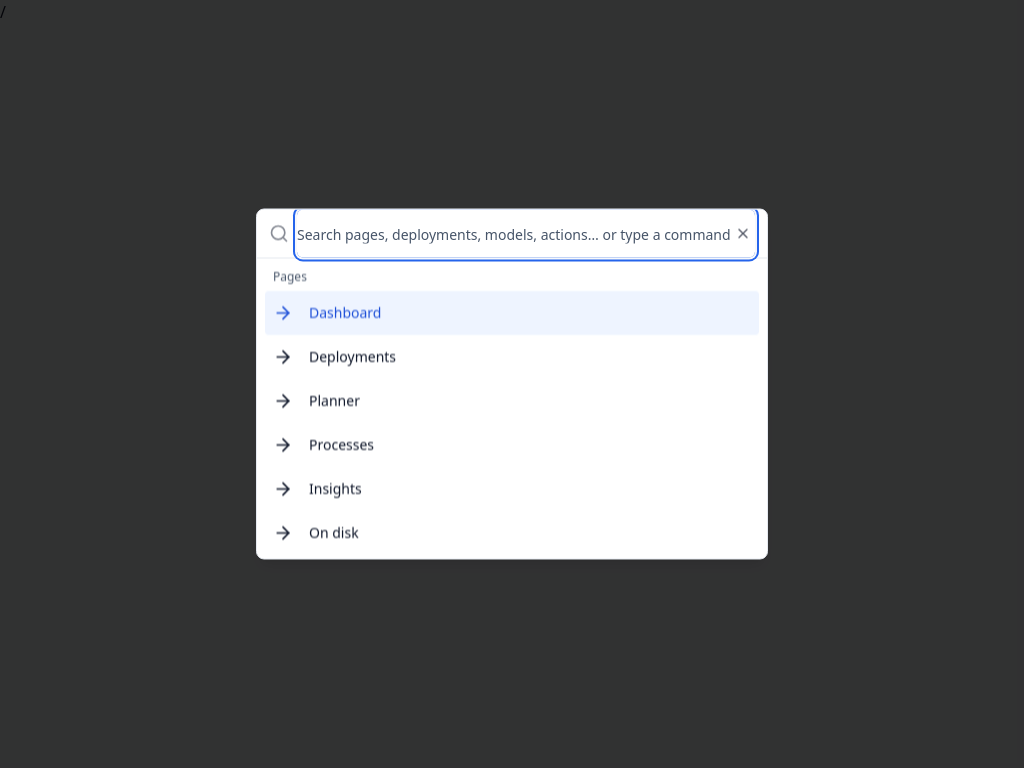
⌘K Ask mode › offers Interpret only when no entry matches, and lists the interpretations with confidence
The image size is (1024, 768).
Step 1. Type "planner" into the dropdown with placeholder "type a command" → (526, 234), box [297,210,755,258]
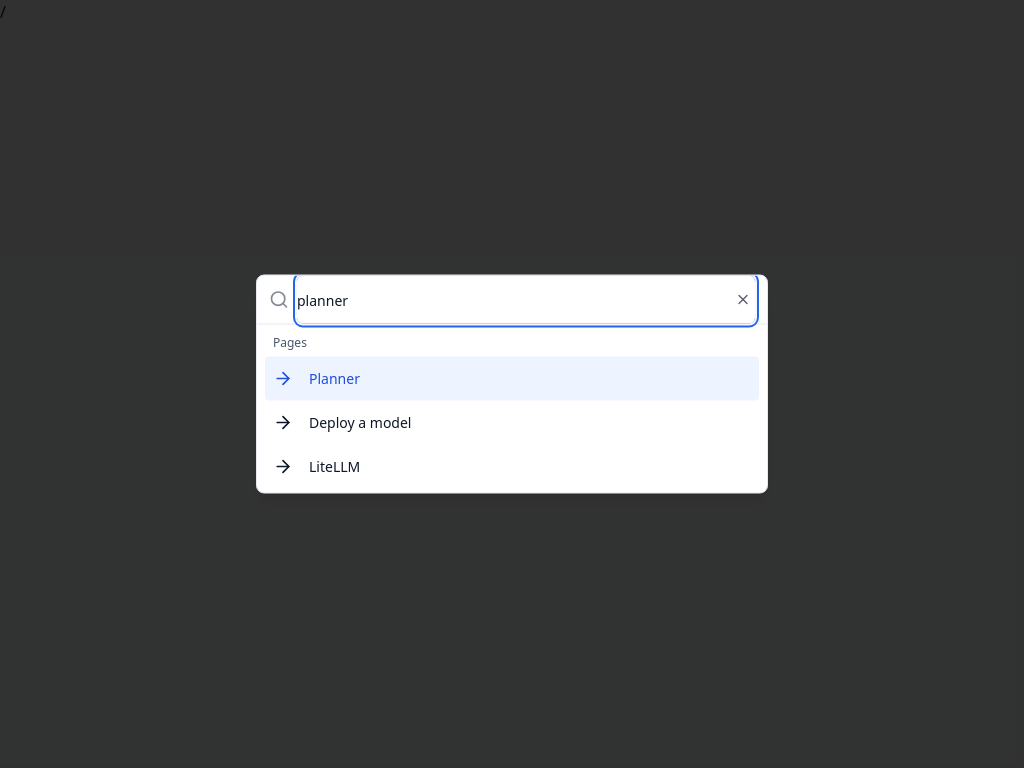
Expected: the text "Interpret:" is not shown
Step 2. Clear the dropdown with placeholder "type a command" → (526, 300), box [297,276,755,324]
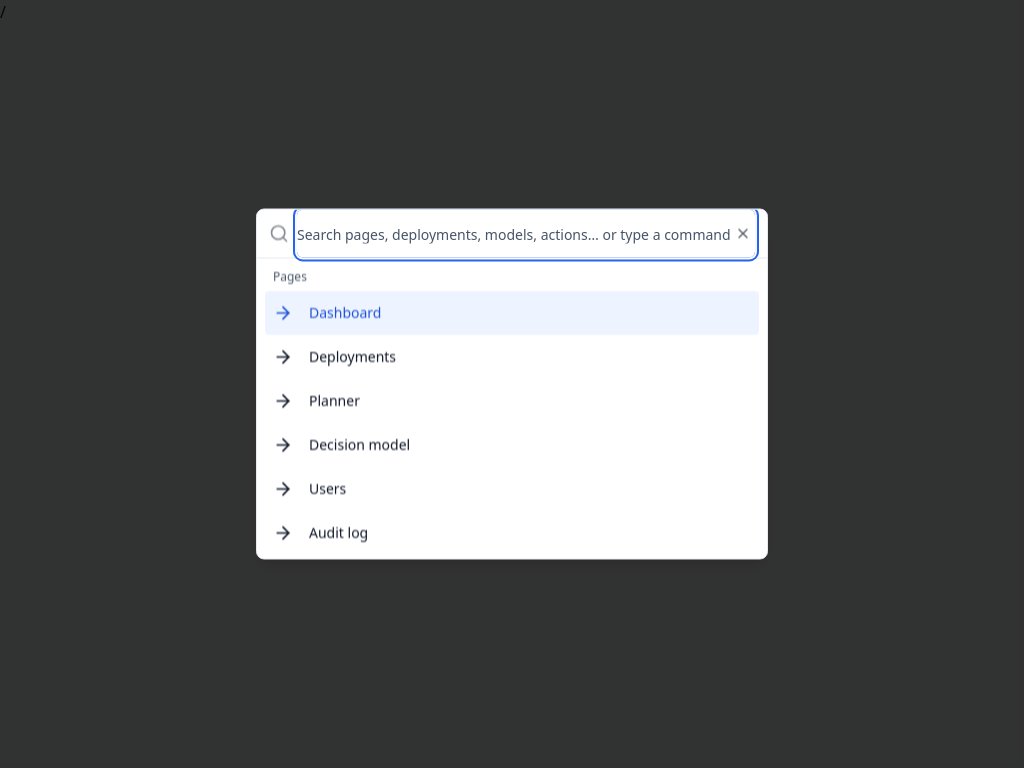
Step 3. Type "turn qwen off for tonight" into the dropdown with placeholder "type a command" → (526, 234), box [297,210,755,258]
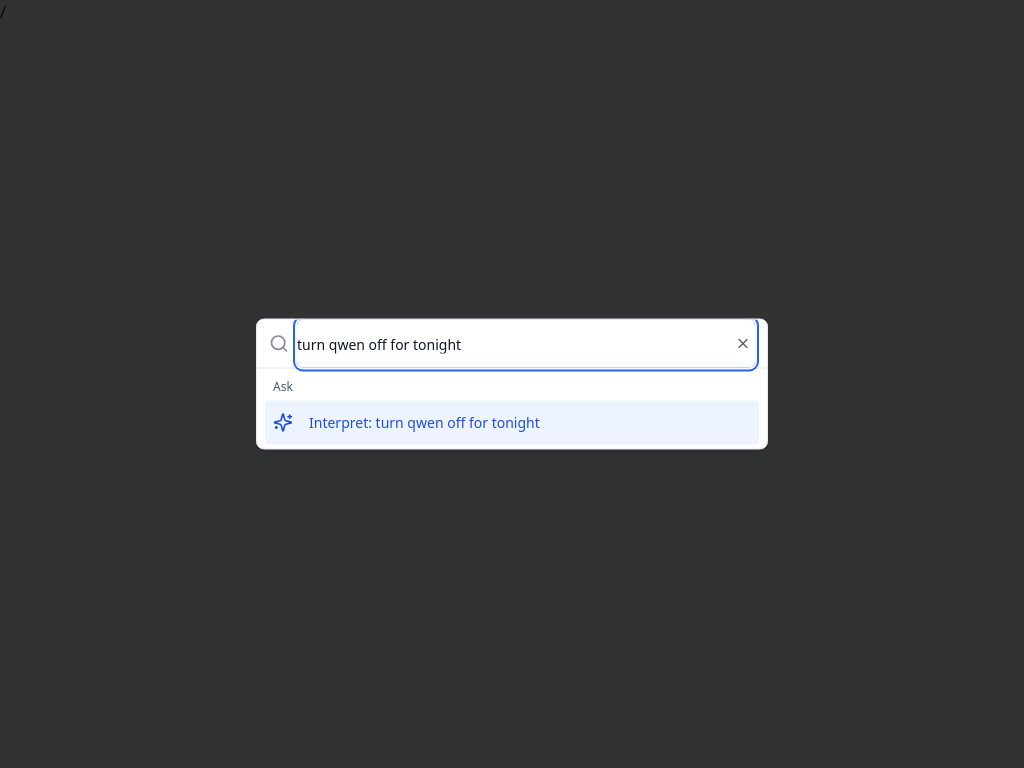
Expected: the option "Interpret: turn qwen off for tonight" is shown, [265,400,759,444]
Step 4. Press Enter
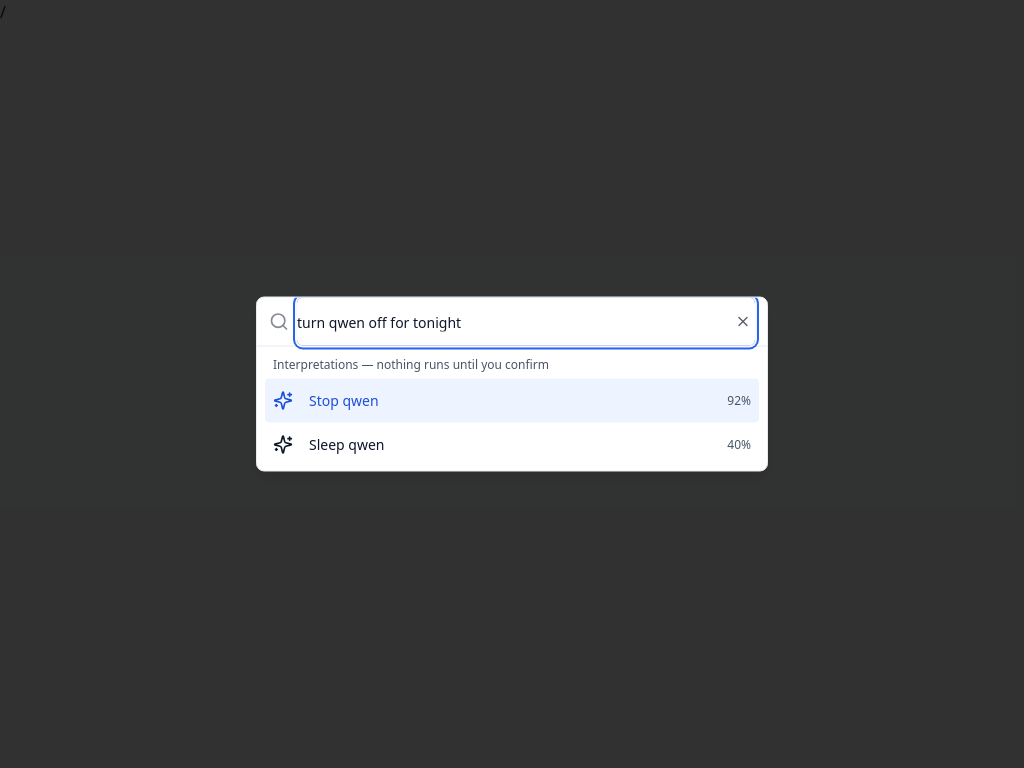
Expected: the option with aria-label "Stop qwen, confidence 92%" is shown, [265,378,759,422]
Expected: the option with aria-label "Sleep qwen, confidence 40%" is shown, [273,434,751,454]
